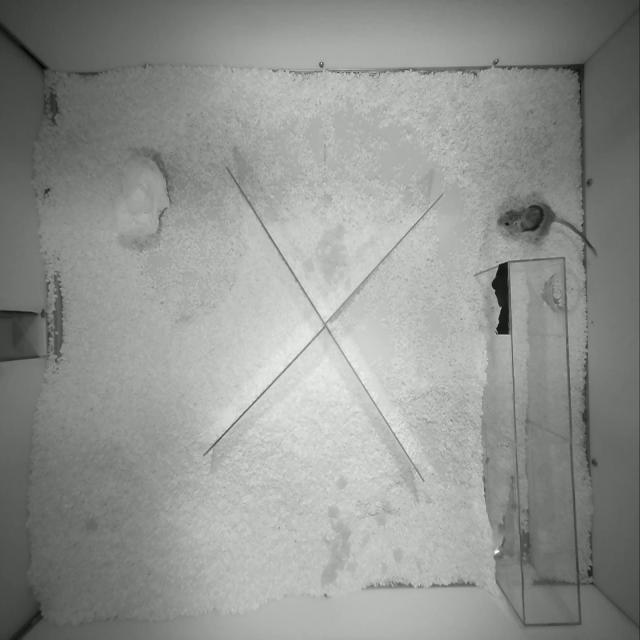adult_front: (498, 203, 597, 255)
